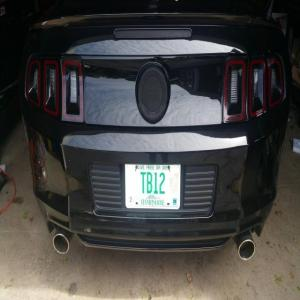Plate: (126, 163, 182, 209)
